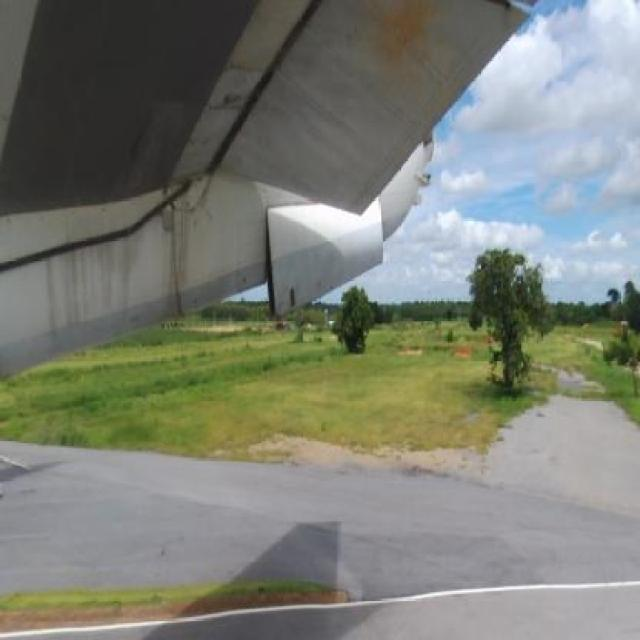Rust: (28, 222, 150, 350), (332, 1, 458, 113), (158, 197, 200, 326), (221, 44, 274, 90)
